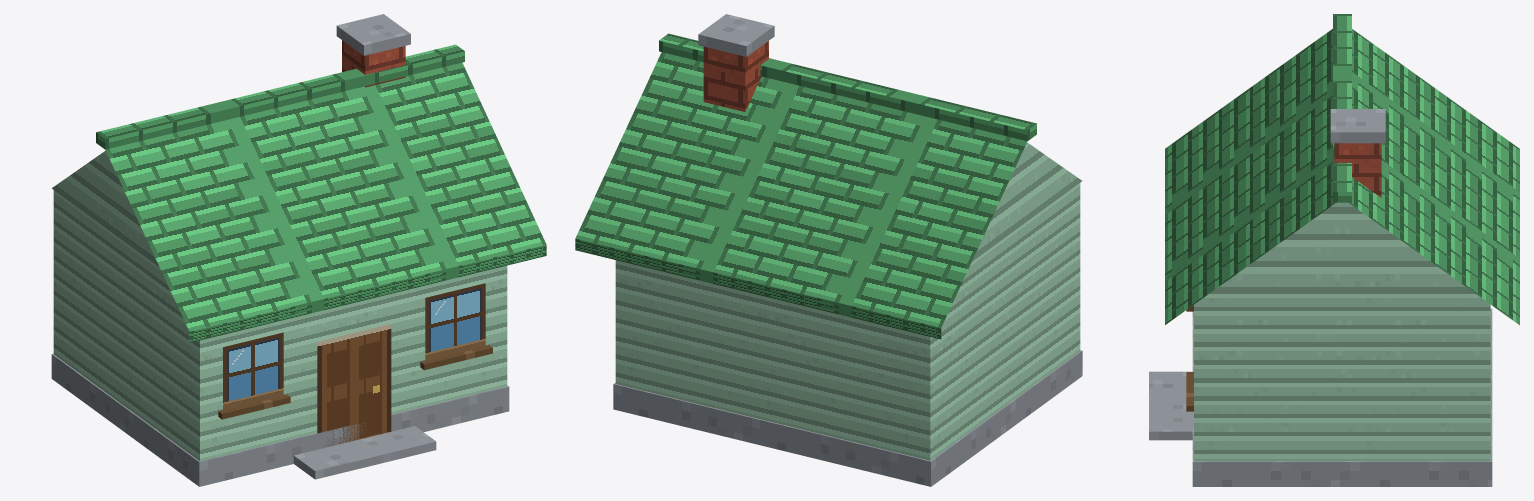
File: house_2.glb
The picture shows the model from 3 angles, left to right: view 1: azimuth 30°, elevation 25°; view 2: azimuth 150°, elevation 25°; view 3: azimuth 270°, elevation 25°; orthographic projection. The views are drawn at different scales.
Visible parts, largest first — view 1: house_2; view 2: house_2; view 3: house_2.
Part boxes in pixels (x1,y1,x2,y2): house_2: [51, 14, 546, 486]; house_2: [575, 14, 1082, 486]; house_2: [1149, 14, 1519, 486].
Bounding box in the file's own units: 5.34 × 4.75 × 4.7.
Materials: 7 (7 with a texture image).
